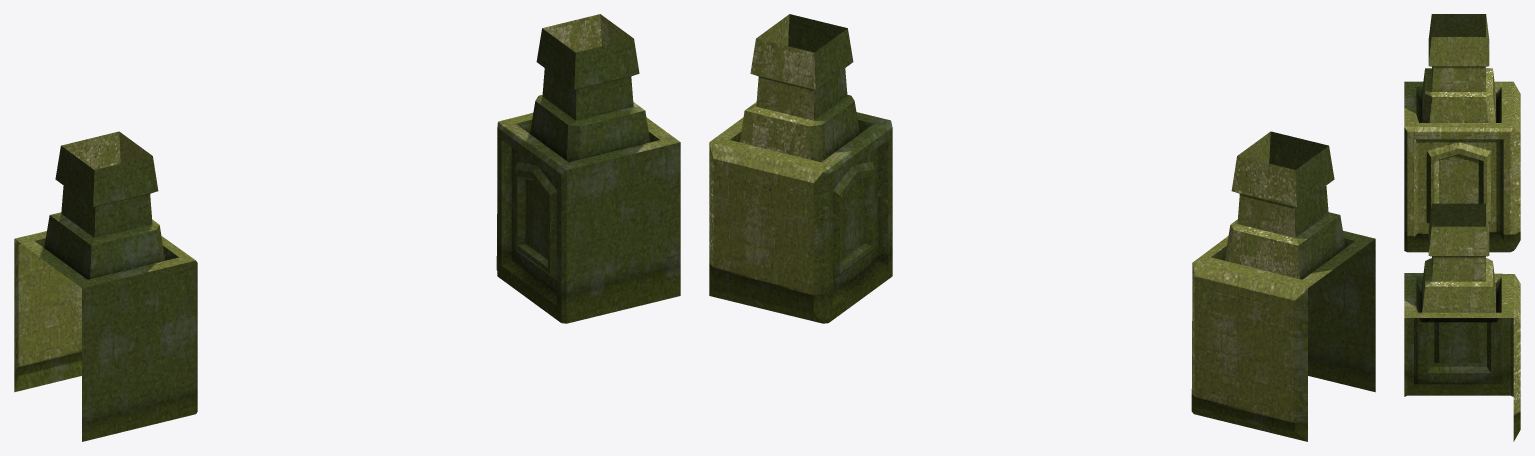
Rendered from scenery_block_2.glb.
3 renders of one model, left to right at view 1: azimuth 30°, elevation 25°; view 2: azimuth 150°, elevation 25°; view 3: azimuth 270°, elevation 25°, orthographic. The views are drawn at different scales.
Parts seen in each view (by area): view 1: SceneryBlock2; view 2: SceneryBlock2; view 3: SceneryBlock2.
Boxes of the visible parts, <box> form: SceneryBlock2: <box>14,14,680,441</box>; SceneryBlock2: <box>709,14,1375,441</box>; SceneryBlock2: <box>1404,14,1520,441</box>.
Bounding box in the file's own units: 40.77 × 16.4 × 8.51.
1 material, 1 textured.
